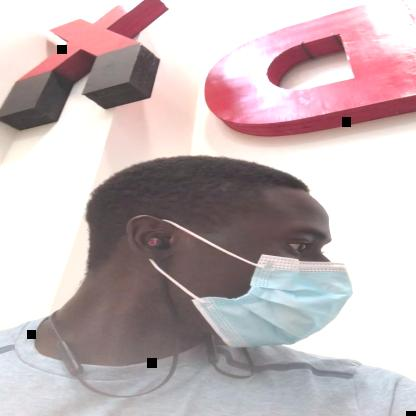mask: (153, 196, 355, 348)
